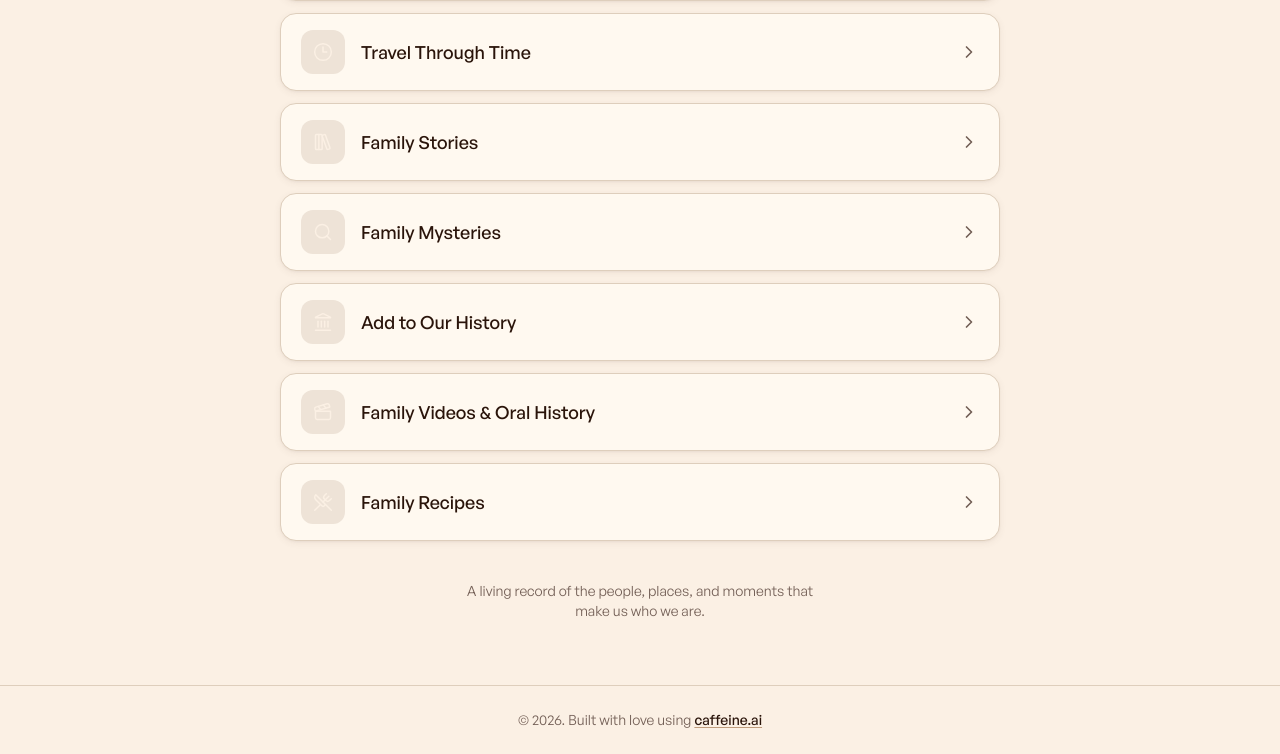
Test case: Family Recipes page › lists approved recipes and opens the canonical detail view
(page scrolled)
Click the button "Family Recipes".
click(323, 502)  # box top-left (280, 463), bottom-right (1000, 541)
(page scrolled)
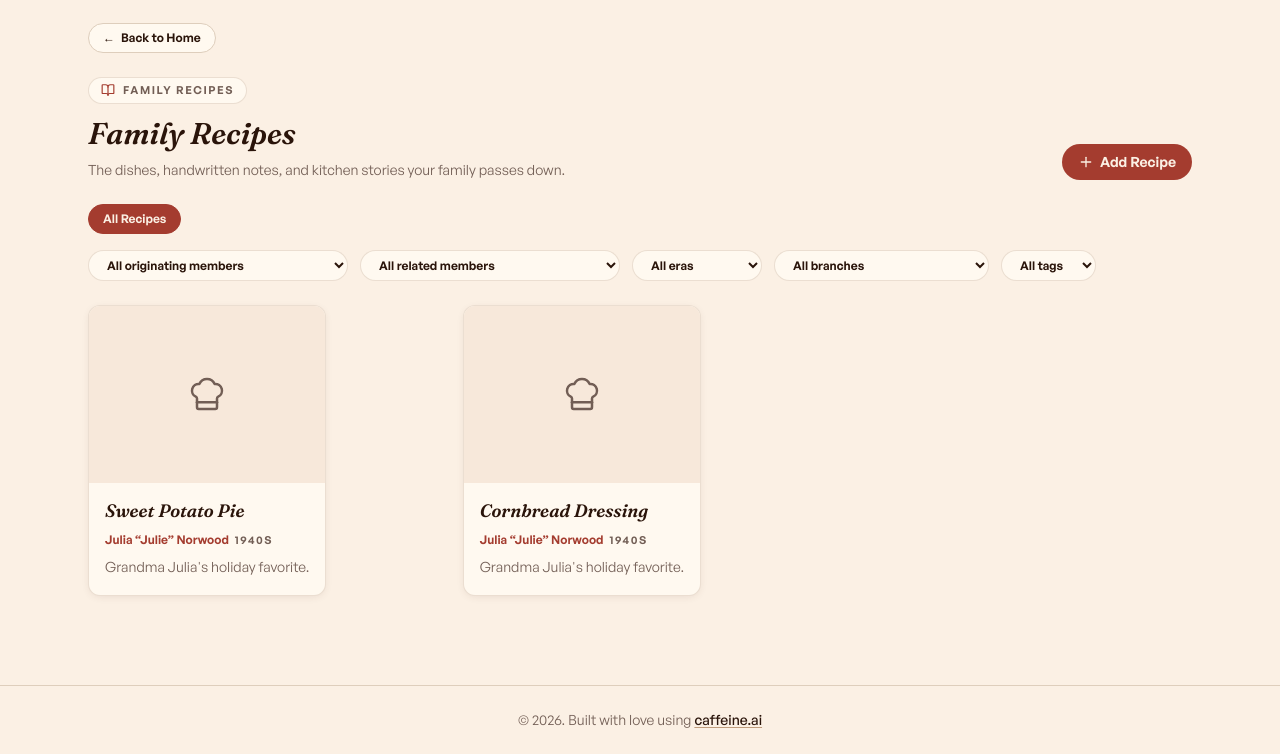
Result: the heading "Family Recipes" is shown at top-left (88, 114), bottom-right (296, 152)
Result: the heading "Sweet Potato Pie" is shown at top-left (105, 499), bottom-right (244, 522)
Result: the heading "Cornbread Dressing" is shown at top-left (480, 499), bottom-right (648, 522)
Click the button "Sweet Potato Pie".
click(207, 450)  # box top-left (88, 304), bottom-right (326, 596)
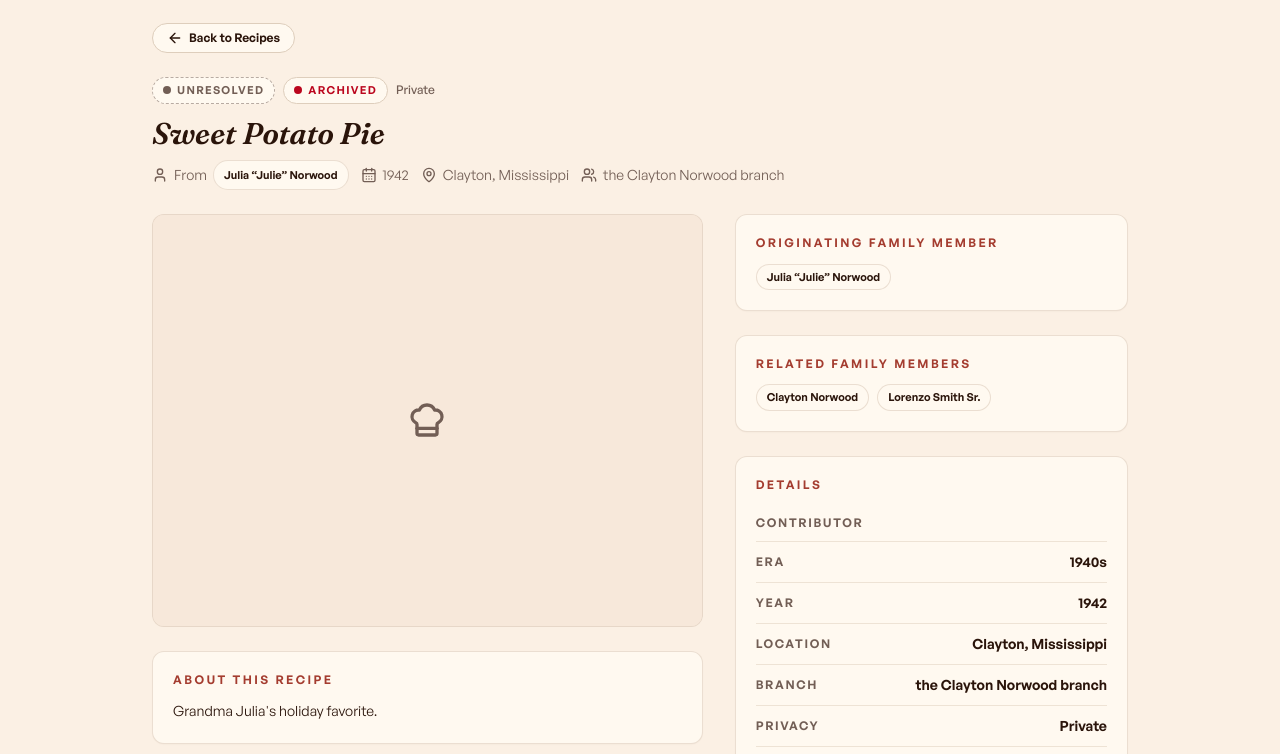
Result: the heading "Sweet Potato Pie" is shown at top-left (152, 114), bottom-right (385, 152)
Result: the text "Unresolved" is shown at top-left (152, 77), bottom-right (275, 104)
